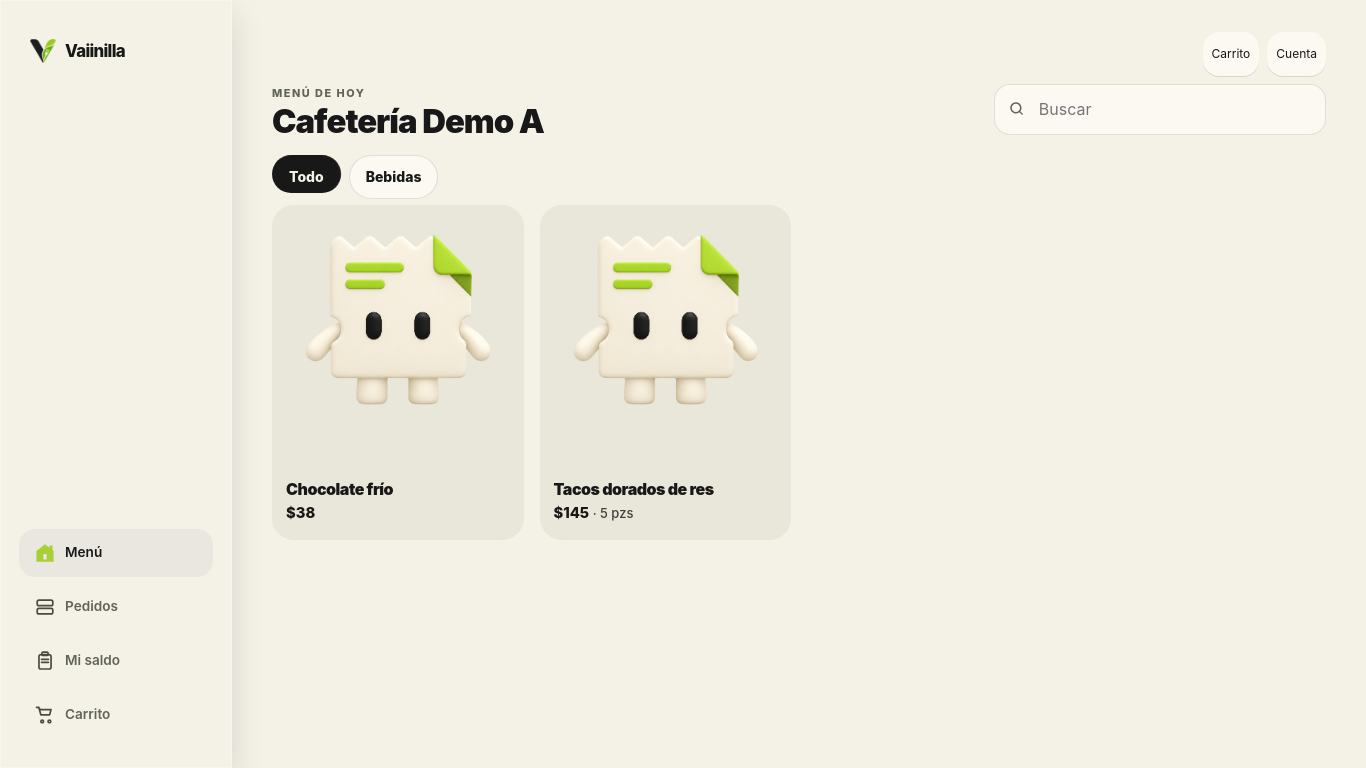
Test: MenuPage › búsqueda sin resultados dice qué no encontró y deja limpiarla
Expected: the button "Chocolate frío $38" is shown, [272,205,524,540]
Type "pizza" into the field named "Buscar en el menú". click: (1160,109)
box: [994,84,1326,135]
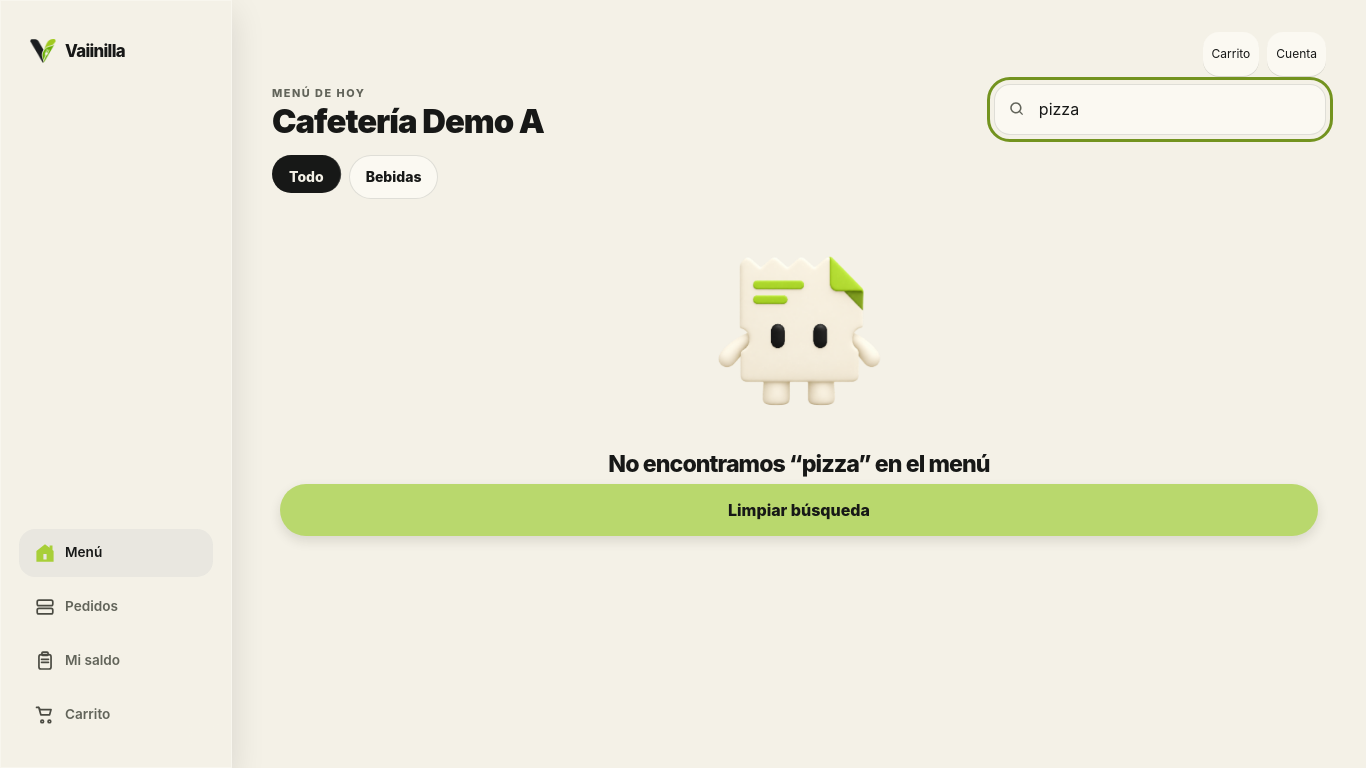
Result: the message shows "No encontramos “pizza” en el menú" at [272,205,1326,544]
Click the button "Limpiar búsqueda". click: (799,510)
box: [280,484,1318,536]
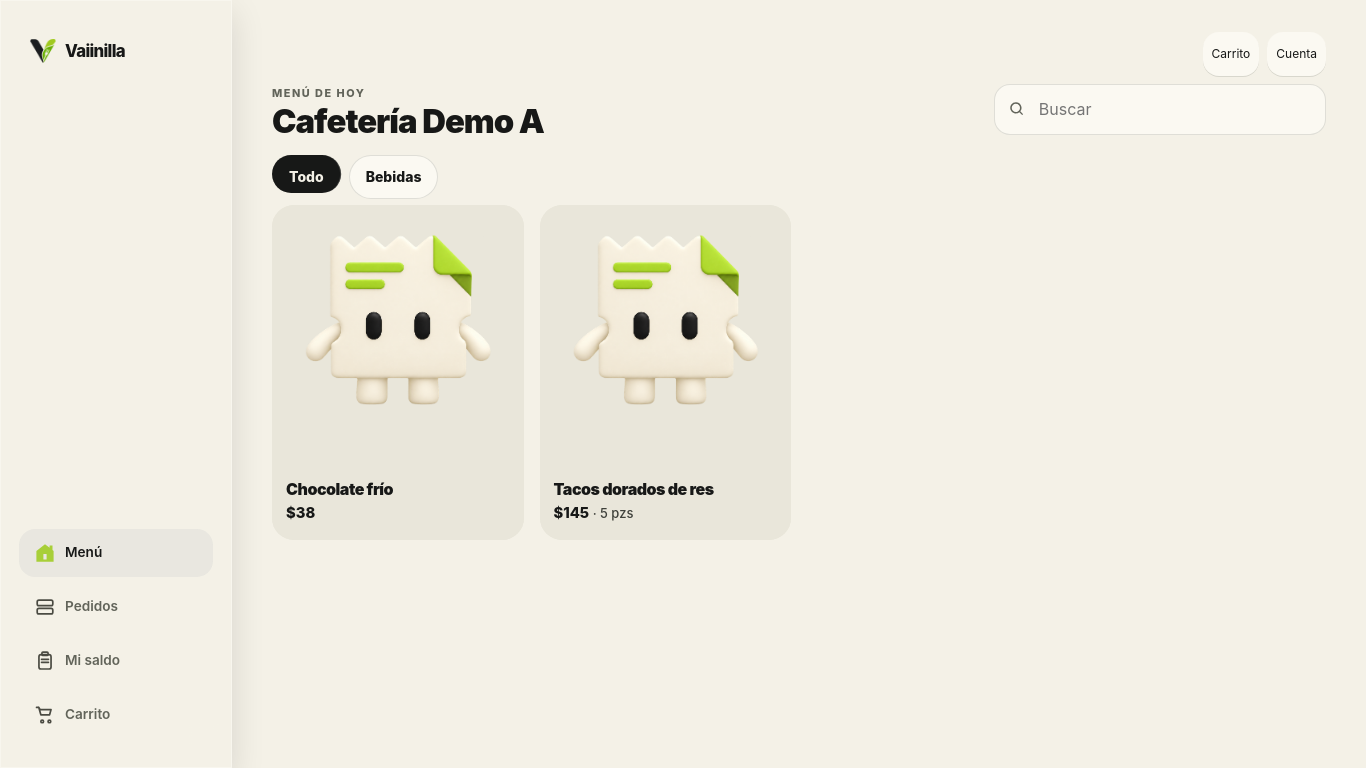
Result: the button "Chocolate frío $38" is shown at [272,205,524,540]
